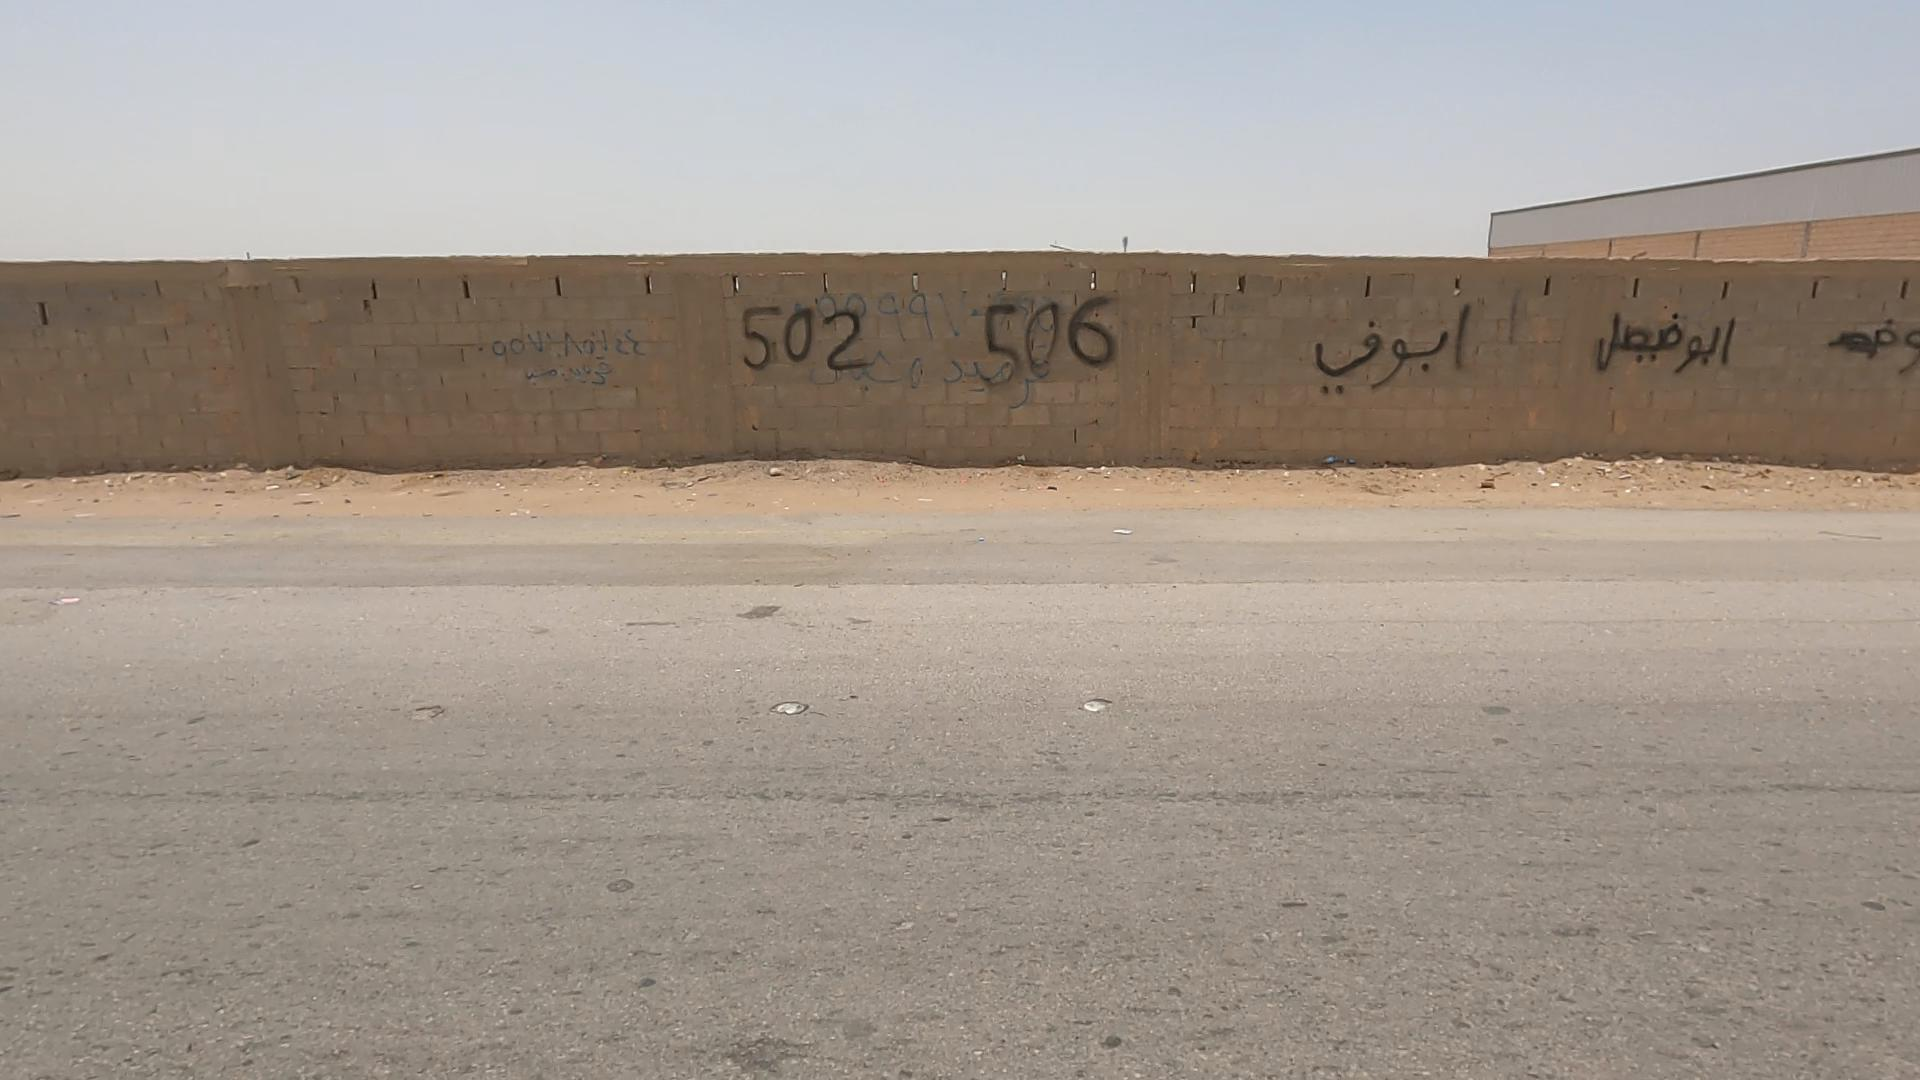GRAFFITI: (455, 225, 1387, 470)
